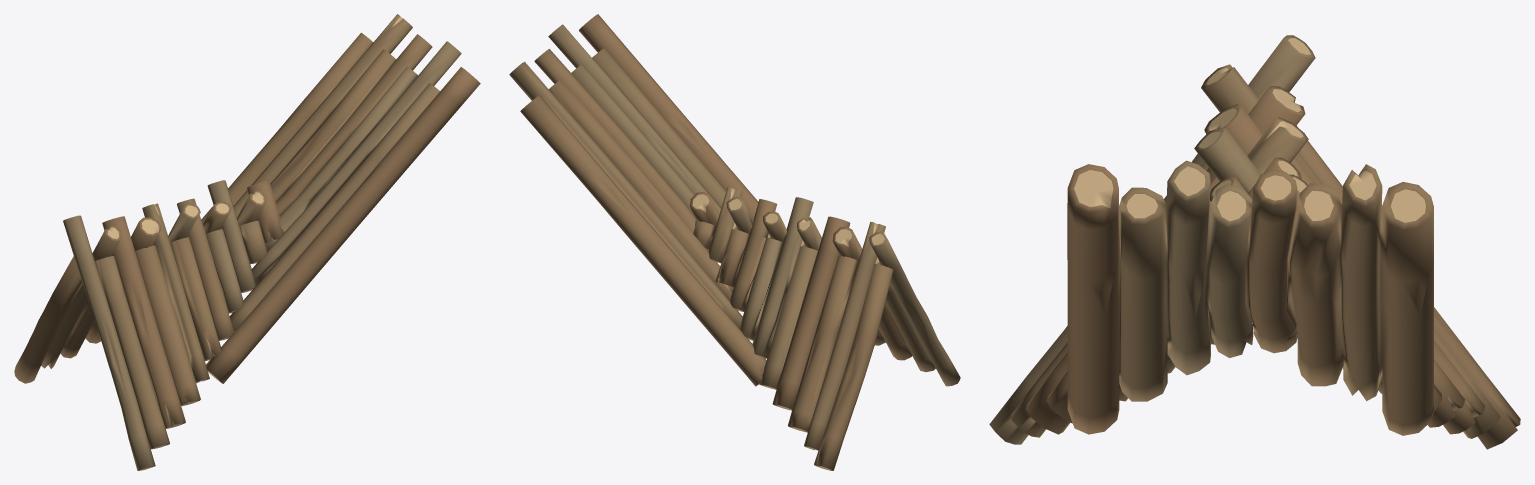
The model's file is rpgpp_ag_roof_01e_9x4x3_half.fbx.
3 renders of one model, left to right at view 1: azimuth 30°, elevation 25°; view 2: azimuth 150°, elevation 25°; view 3: azimuth 270°, elevation 25°, orthographic. The views are drawn at different scales.
Visible parts, largest first — view 1: rpgpp_ag_roof_01e_9x4x3_half; view 2: rpgpp_ag_roof_01e_9x4x3_half; view 3: rpgpp_ag_roof_01e_9x4x3_half.
Boxes of the visible parts, left/top/right/bottom form: rpgpp_ag_roof_01e_9x4x3_half: left=14, top=14, right=480, bottom=470; rpgpp_ag_roof_01e_9x4x3_half: left=509, top=14, right=960, bottom=470; rpgpp_ag_roof_01e_9x4x3_half: left=989, top=35, right=1520, bottom=449.
Size of the model in its own units: 6.9 by 5.58 by 4.35.
